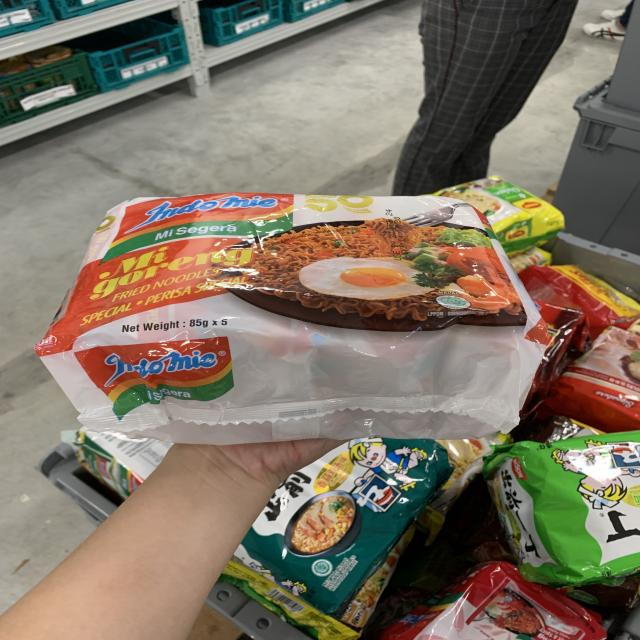object_name: (72, 203, 510, 430)
